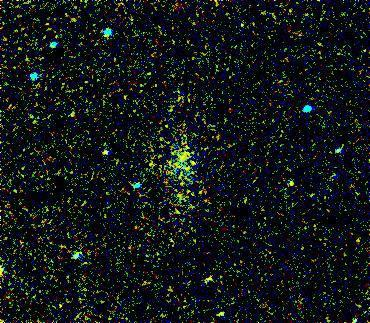star: (277, 167, 307, 197)
